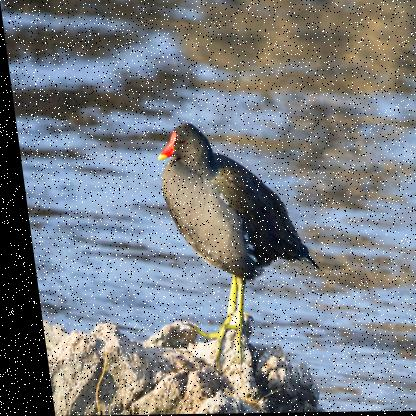Burung: (150, 121, 322, 370)
